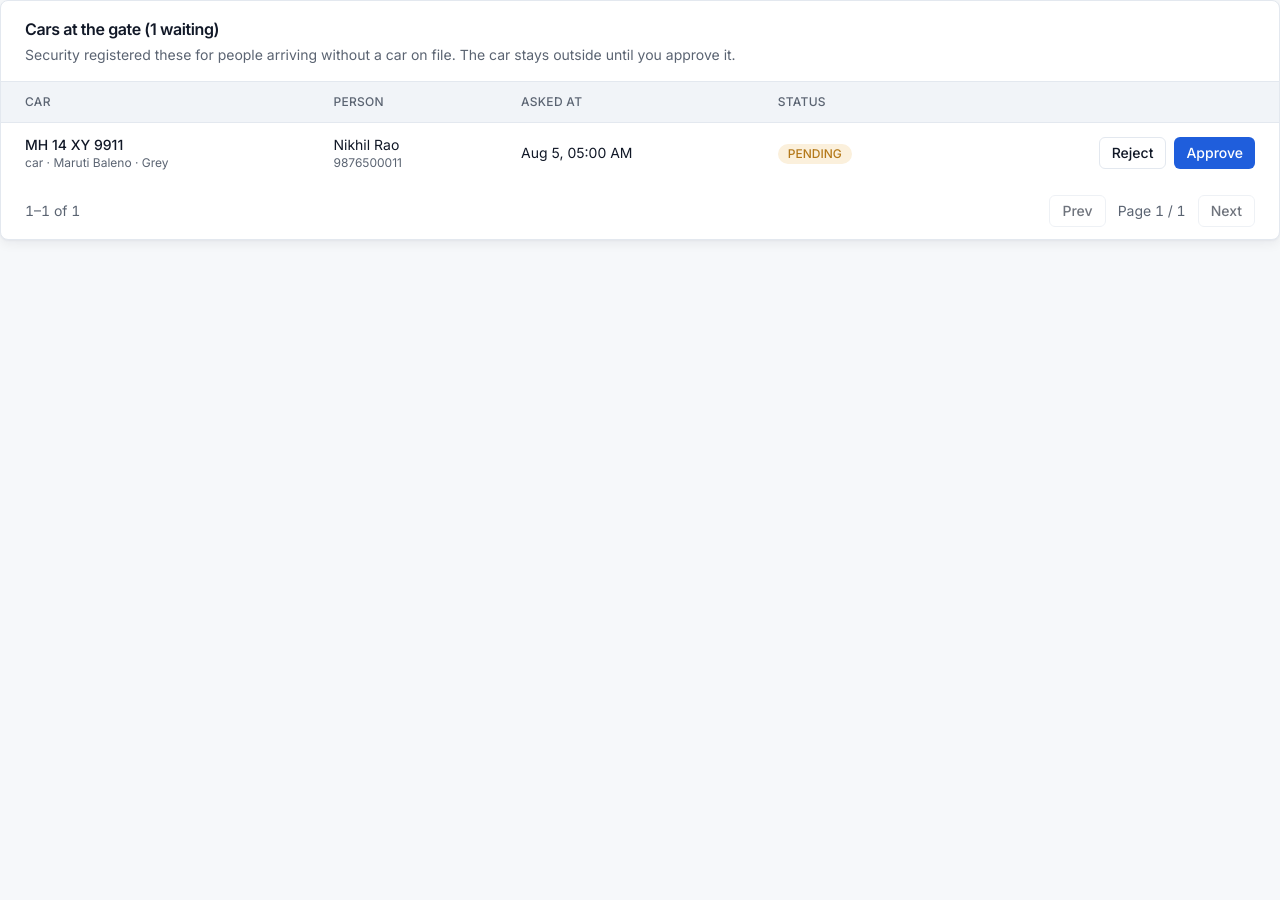
Test: VehicleRegistrations › approves a request and says the car can now be let in
Click the button "Approve": coordinates (1215, 153) x1=1174 y1=137 x2=1255 y2=169
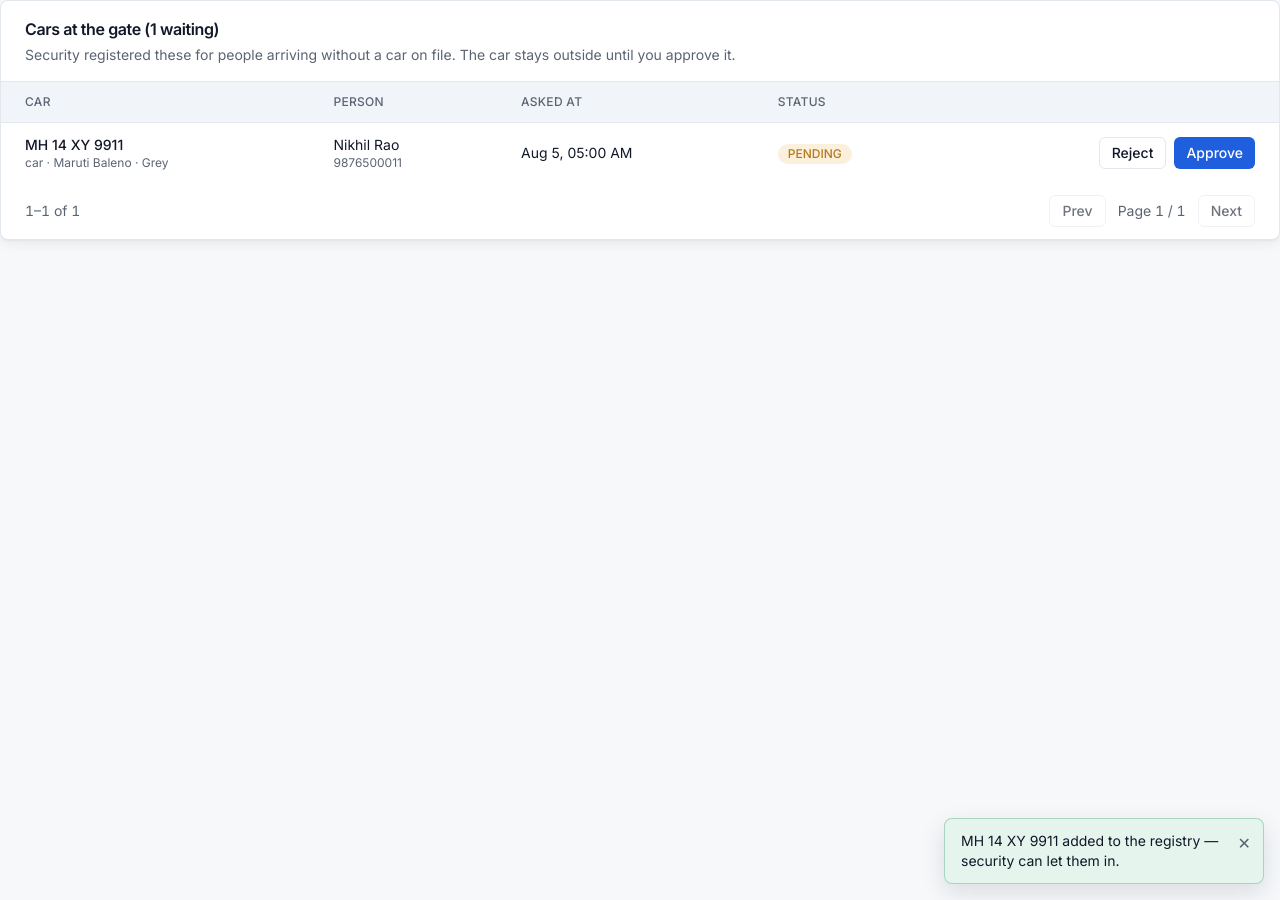
expect the text "security can let them in" is shown: met, box x1=961 y1=832 x2=1218 y2=869
